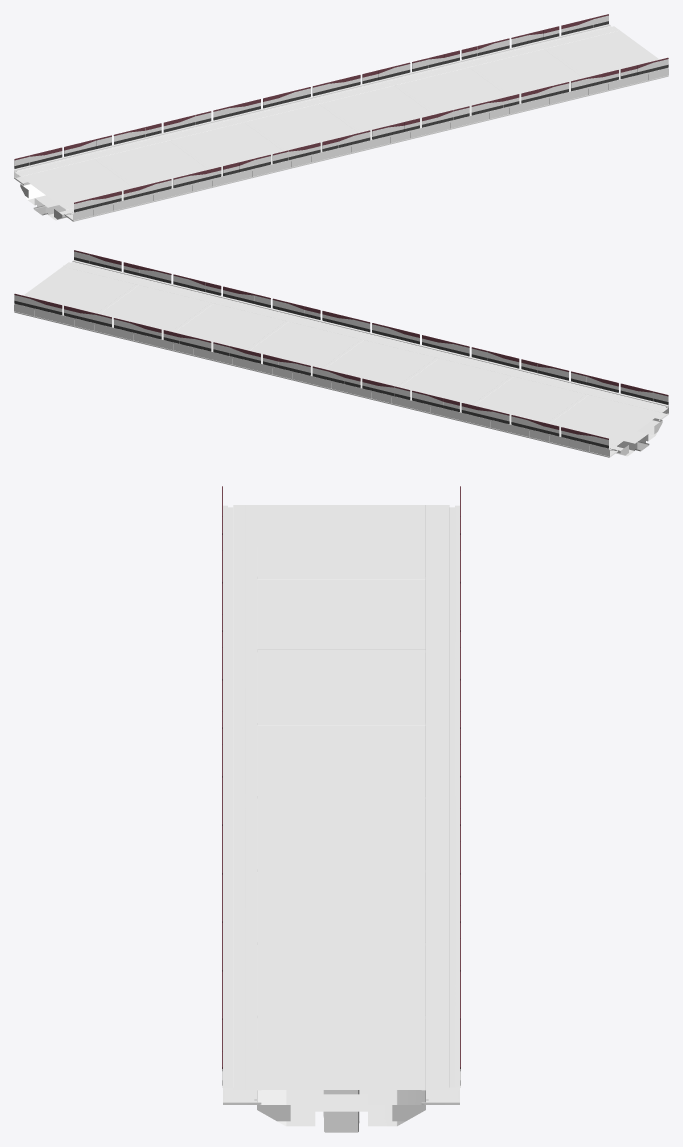
The picture shows the model from 3 angles, top to bottom: view 1: azimuth 30°, elevation 25°; view 2: azimuth 150°, elevation 25°; view 3: azimuth 270°, elevation 25°; orthographic projection. The views are drawn at different scales.
Parts seen in each view (by area): view 1: SM_H_Building_FutureTech_Bridge_01O; view 2: SM_H_Building_FutureTech_Bridge_01O; view 3: SM_H_Building_FutureTech_Bridge_01O.
Part boxes in pixels (bbox=[...]): SM_H_Building_FutureTech_Bridge_01O: bbox=[14, 14, 668, 221]; SM_H_Building_FutureTech_Bridge_01O: bbox=[14, 250, 668, 457]; SM_H_Building_FutureTech_Bridge_01O: bbox=[222, 486, 460, 1132].
Size of the model in its own units: 306 by 1793 by 93.28.
